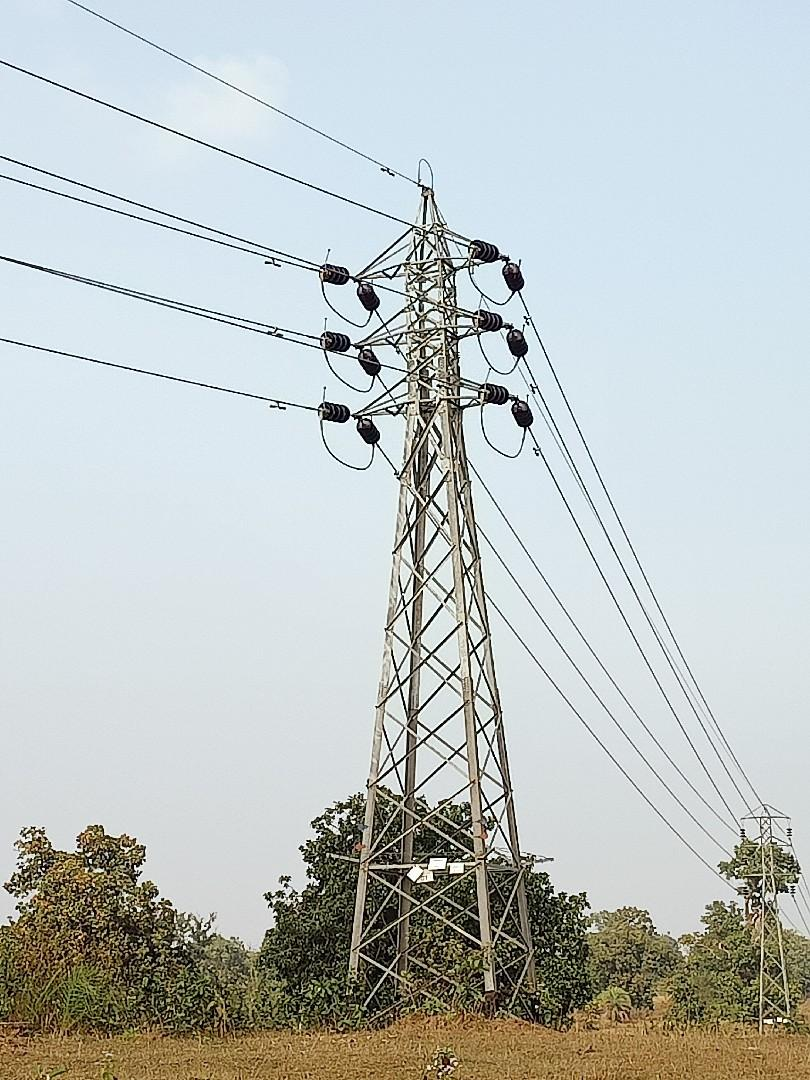GSM Antenna: (317, 183, 562, 963)
